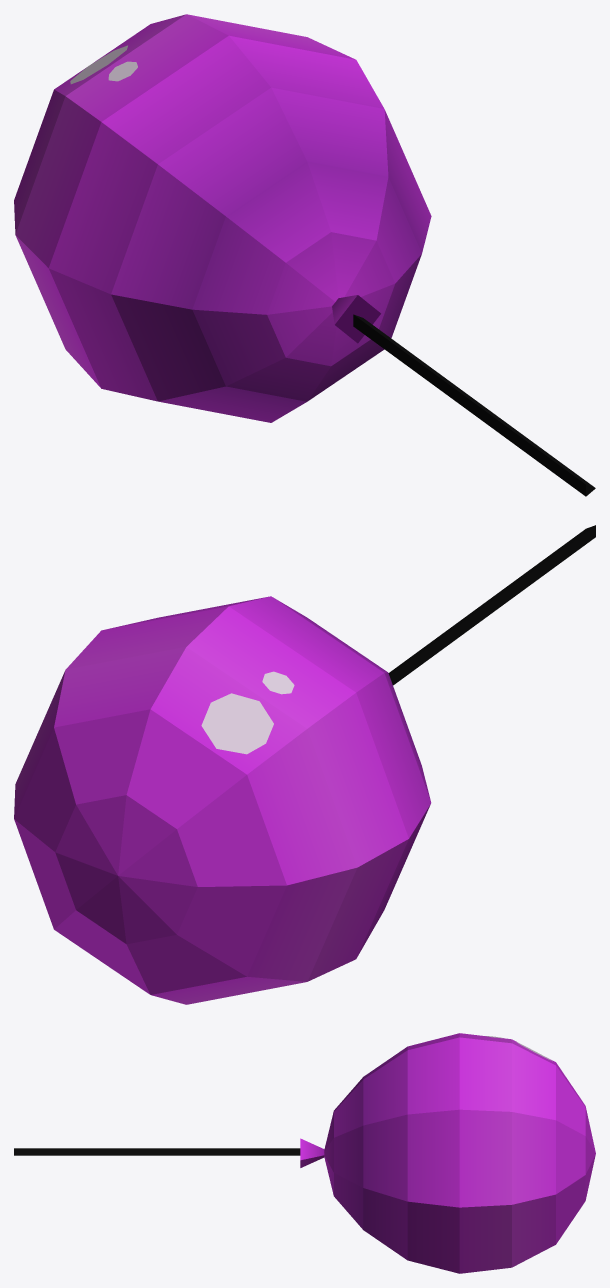
Rendered from AnniversaryPinkBaloon.fbx.
3 renders of one model, top to bottom at view 1: azimuth 30°, elevation 25°; view 2: azimuth 150°, elevation 25°; view 3: azimuth 270°, elevation 25°, orthographic. The views are drawn at different scales.
Visible parts, largest first — view 1: AnniversaryPinkBaloon; view 2: AnniversaryPinkBaloon; view 3: AnniversaryPinkBaloon.
Part boxes in pixels (x1=…): AnniversaryPinkBaloon: x1=14, y1=14, x2=595, y2=496; AnniversaryPinkBaloon: x1=14, y1=525, x2=595, y2=1004; AnniversaryPinkBaloon: x1=14, y1=1033, x2=595, y2=1273.
Bounding box in the file's own units: 56.98 × 56.98 × 129.
